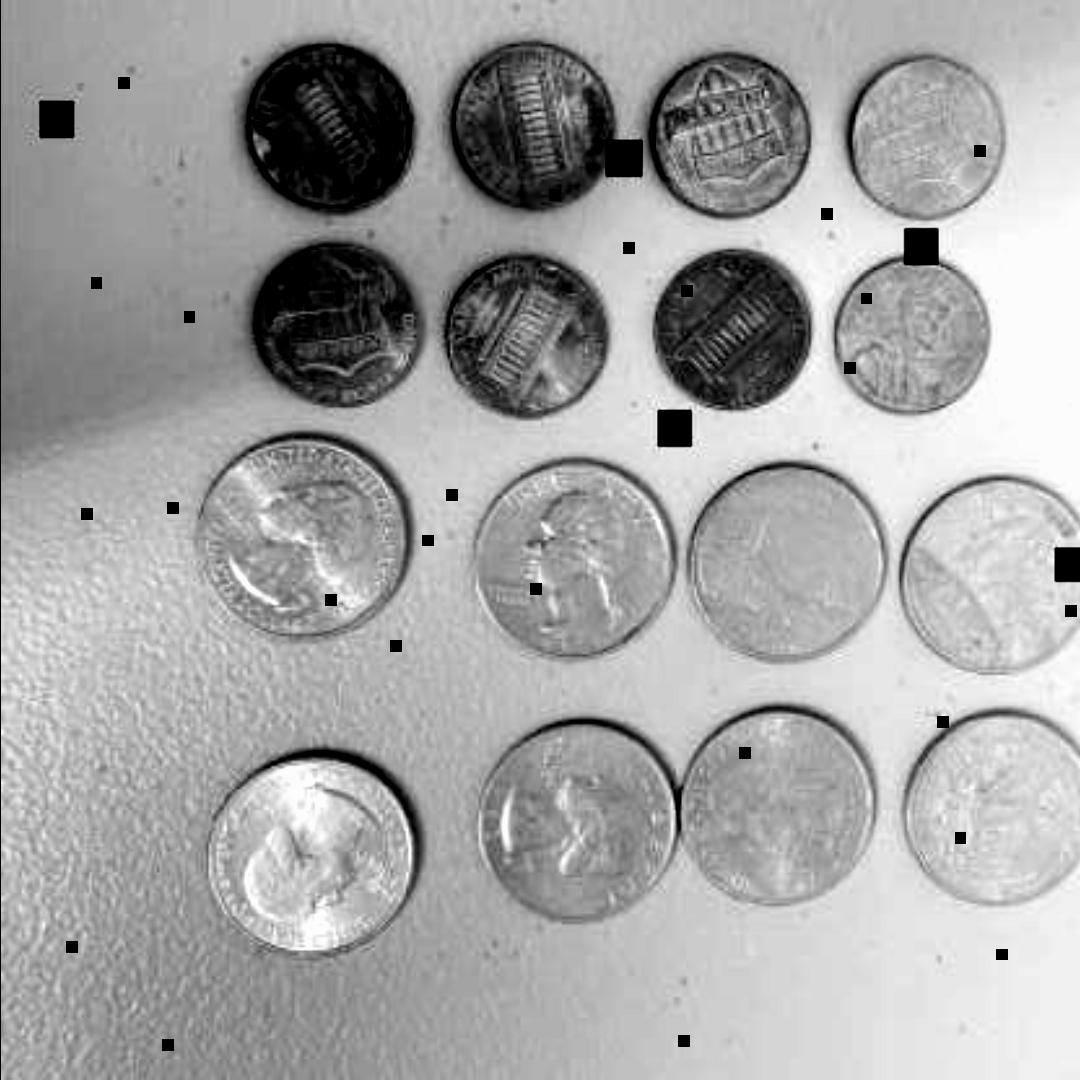Penny: (638, 50, 816, 220), (242, 46, 414, 216), (446, 44, 616, 215), (440, 257, 612, 423), (646, 248, 816, 414), (250, 247, 420, 413), (839, 58, 1005, 224), (826, 259, 992, 419)
Quarter: (200, 753, 420, 965), (187, 440, 407, 647), (682, 463, 888, 668), (468, 463, 674, 668), (476, 726, 675, 931), (678, 711, 880, 908), (898, 479, 1080, 681), (898, 714, 1080, 912)
